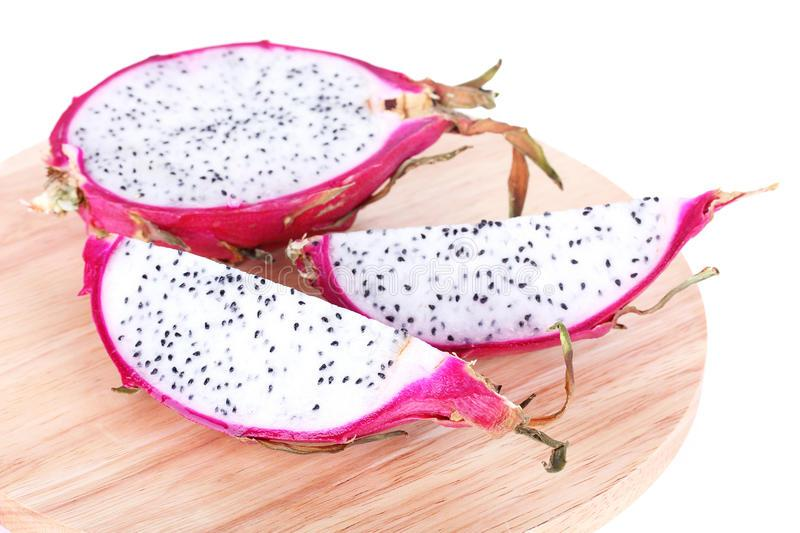dragon-fruit: (60, 31, 533, 206), (80, 248, 462, 452), (327, 202, 722, 312)
